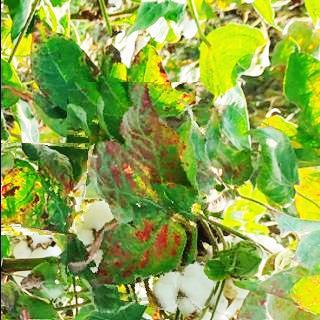blight: (66, 82, 215, 307), (0, 143, 88, 234)
